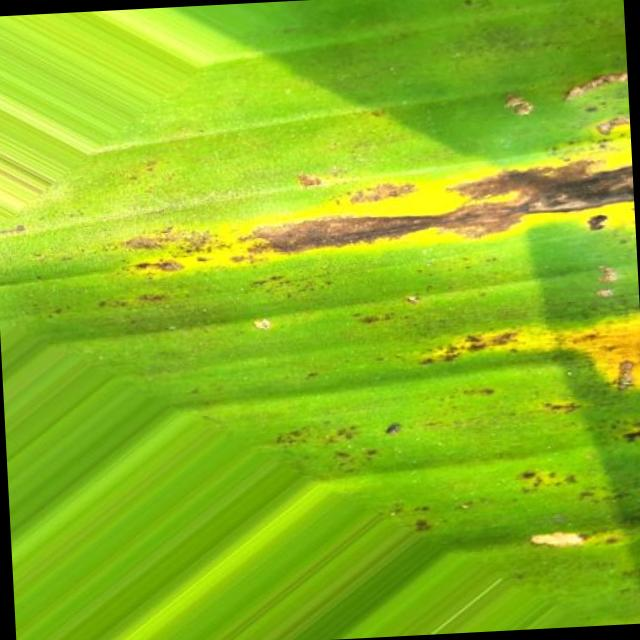Banana_Black_Sigatoka: (212, 75, 640, 348)
